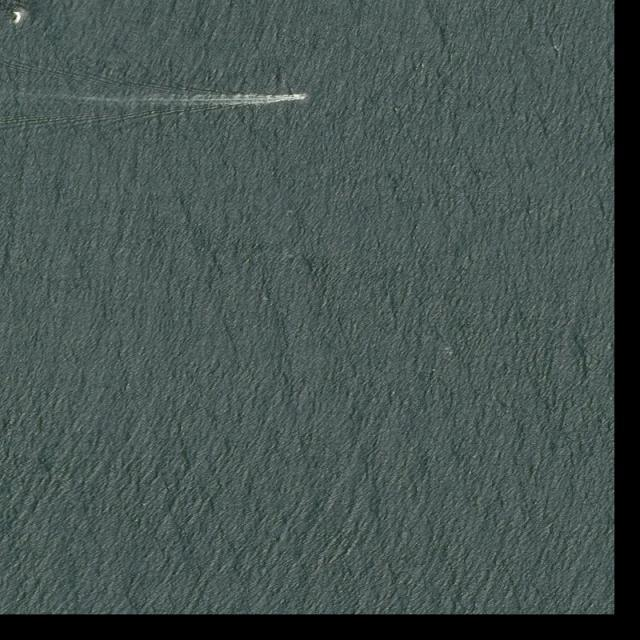ship: (297, 94, 310, 98)
